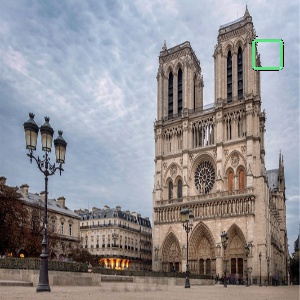square: (251, 39, 284, 71)
